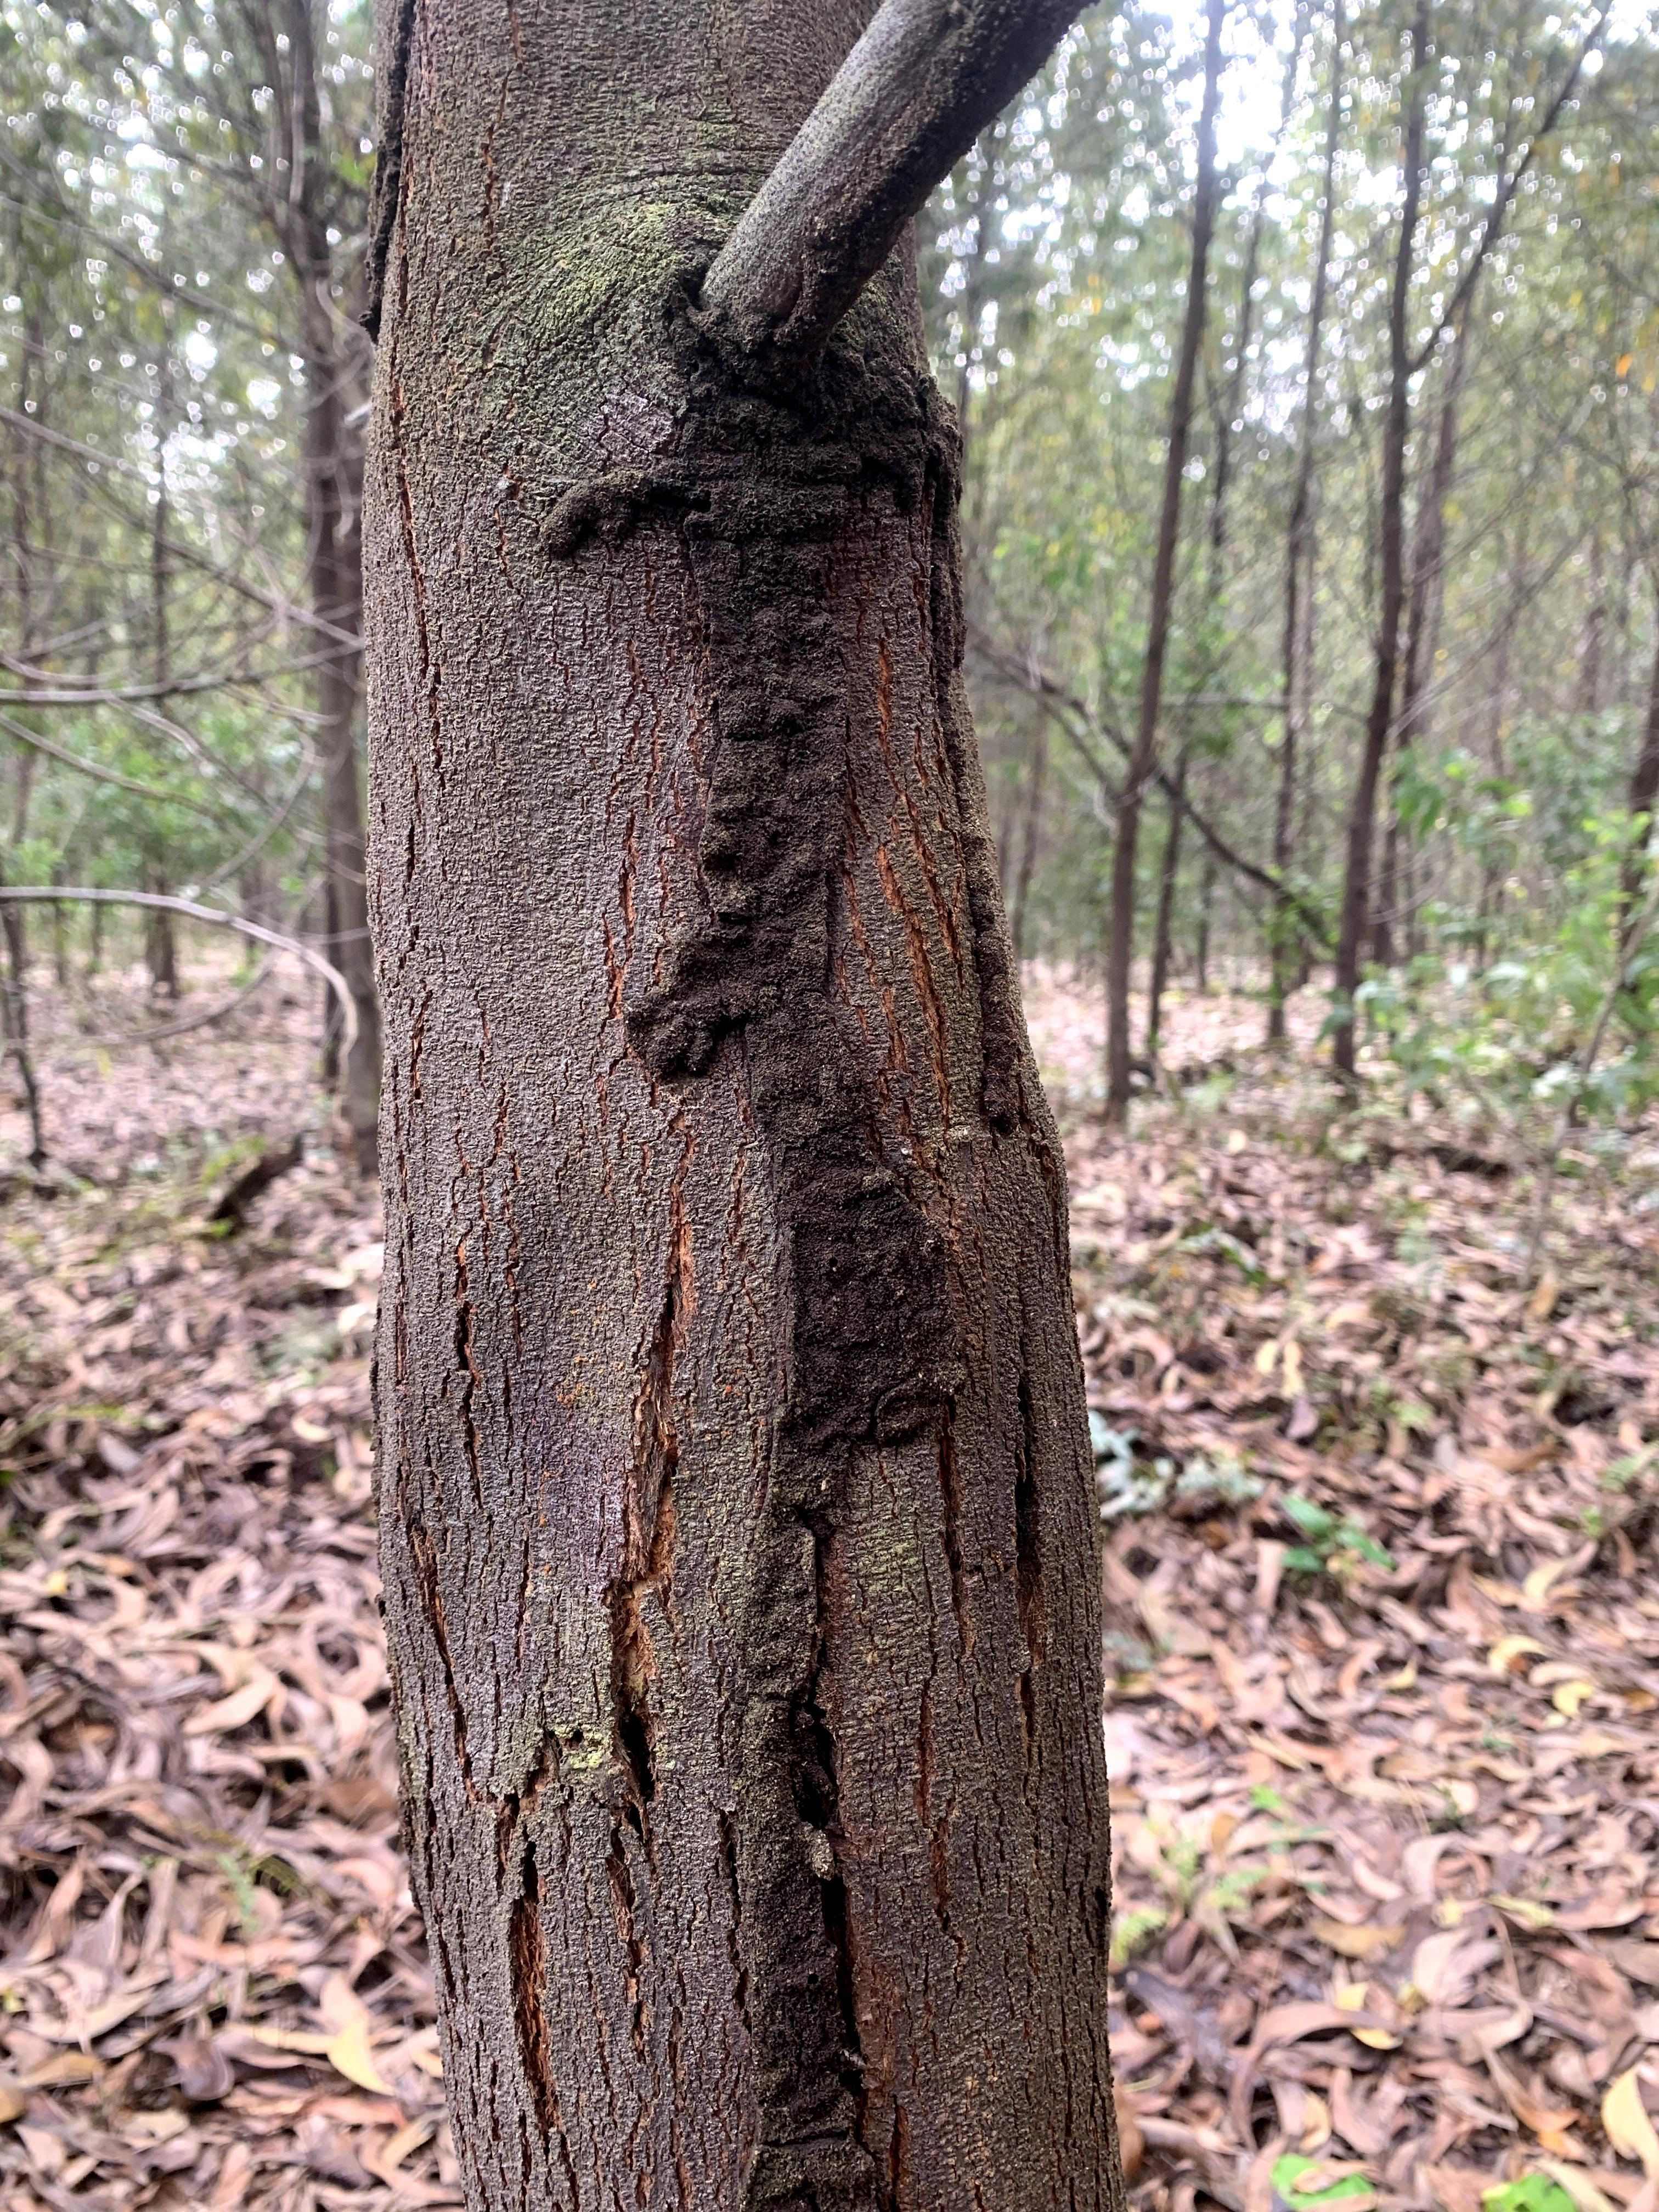Termite - Nest: (542, 397, 1077, 2189)
